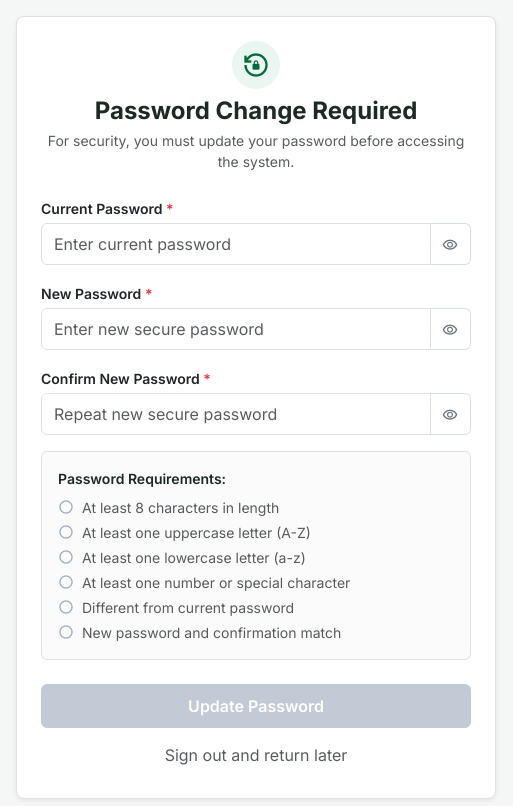
Scenario: ChangePassword UI Component (UI-02, AC-02, BR-02, BR-06) › enables submit button only when all complexity rules are satisfied
The width and height of the screenshot is (513, 806).
// Type current password
Type "InitialPassword123!" into the password field labelled "Current Password *" at (236, 244), box [41,223,431,265]
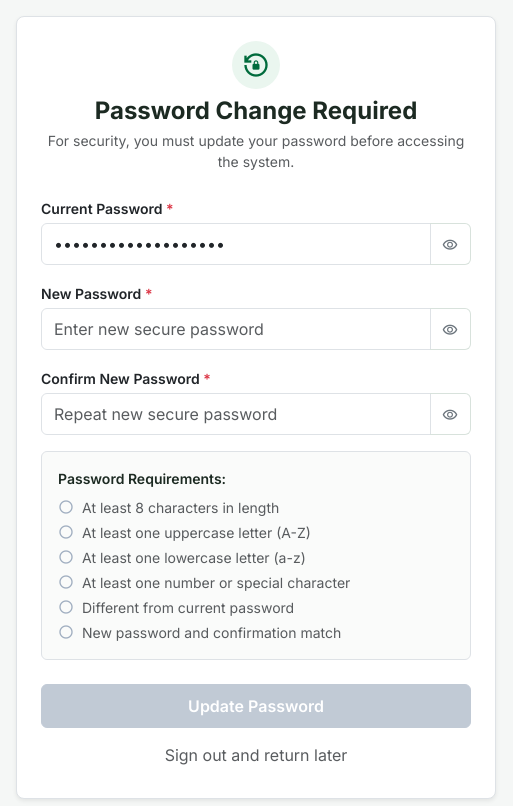
Check: the button "Update Password" is disabled, box [41,684,471,728]
// Type partial new password (fails length, number, match)
Type "Abc" into the password field labelled "New Password *" at (236, 329), box [41,308,431,350]
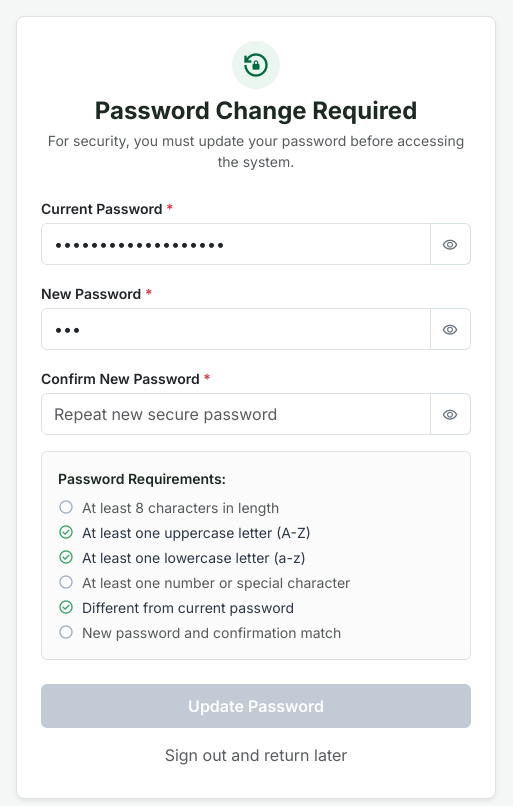
Check: the button "Update Password" is disabled, box [41,684,471,728]
// Type same as current password (fails different)
Type "InitialPassword123!" into the password field labelled "New Password *" at (236, 329), box [41,308,431,350]
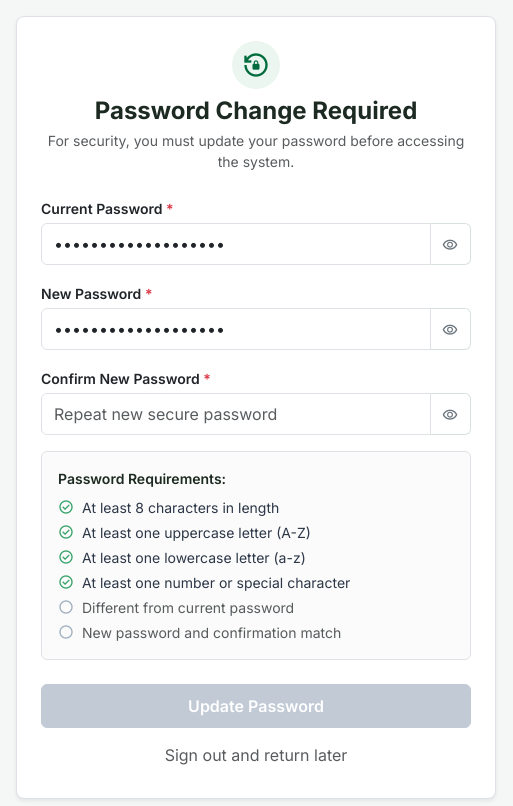
Type "InitialPassword123!" into the password field labelled "Confirm New Password *" at (236, 414), box [41,393,431,435]
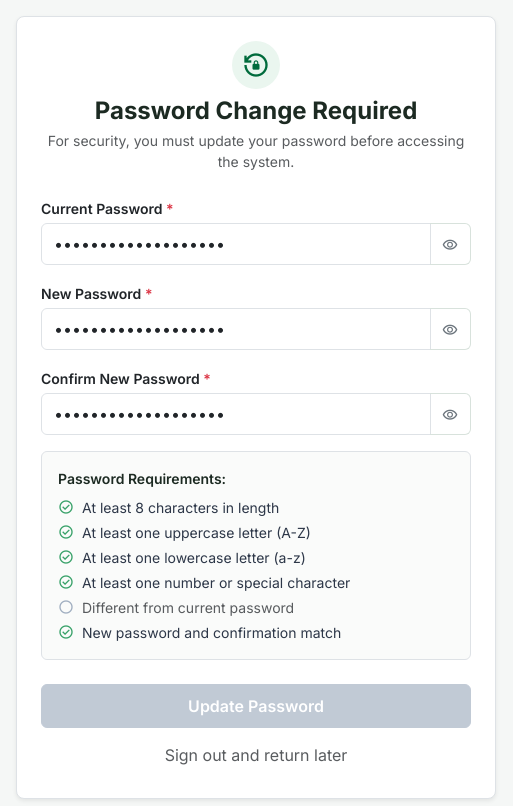
Check: the button "Update Password" is disabled, box [41,684,471,728]
// Type valid new password meeting all criteria
Type "BrandNewPass2026!" into the password field labelled "New Password *" at (236, 329), box [41,308,431,350]
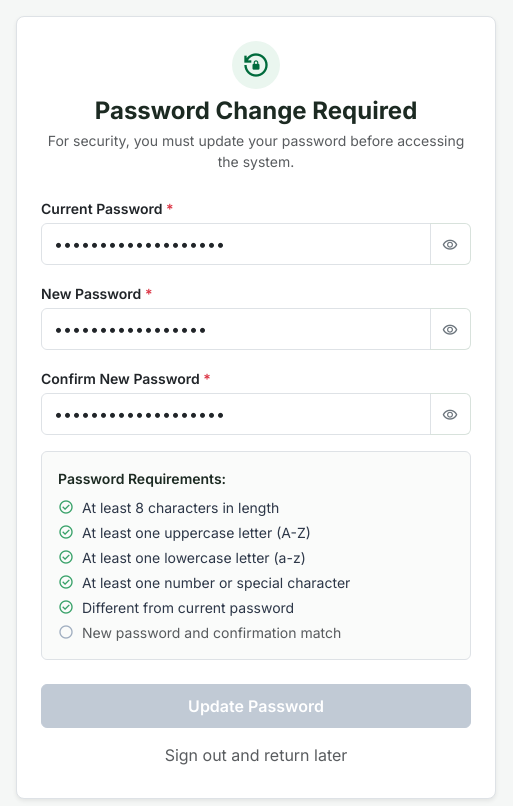
Type "BrandNewPass2026!" into the password field labelled "Confirm New Password *" at (236, 414), box [41,393,431,435]
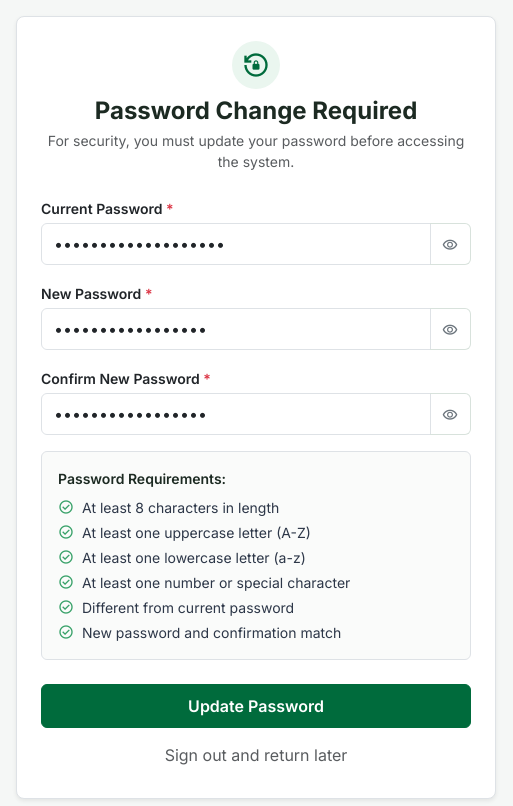
Check: the button "Update Password" is enabled, box [41,684,471,728]
